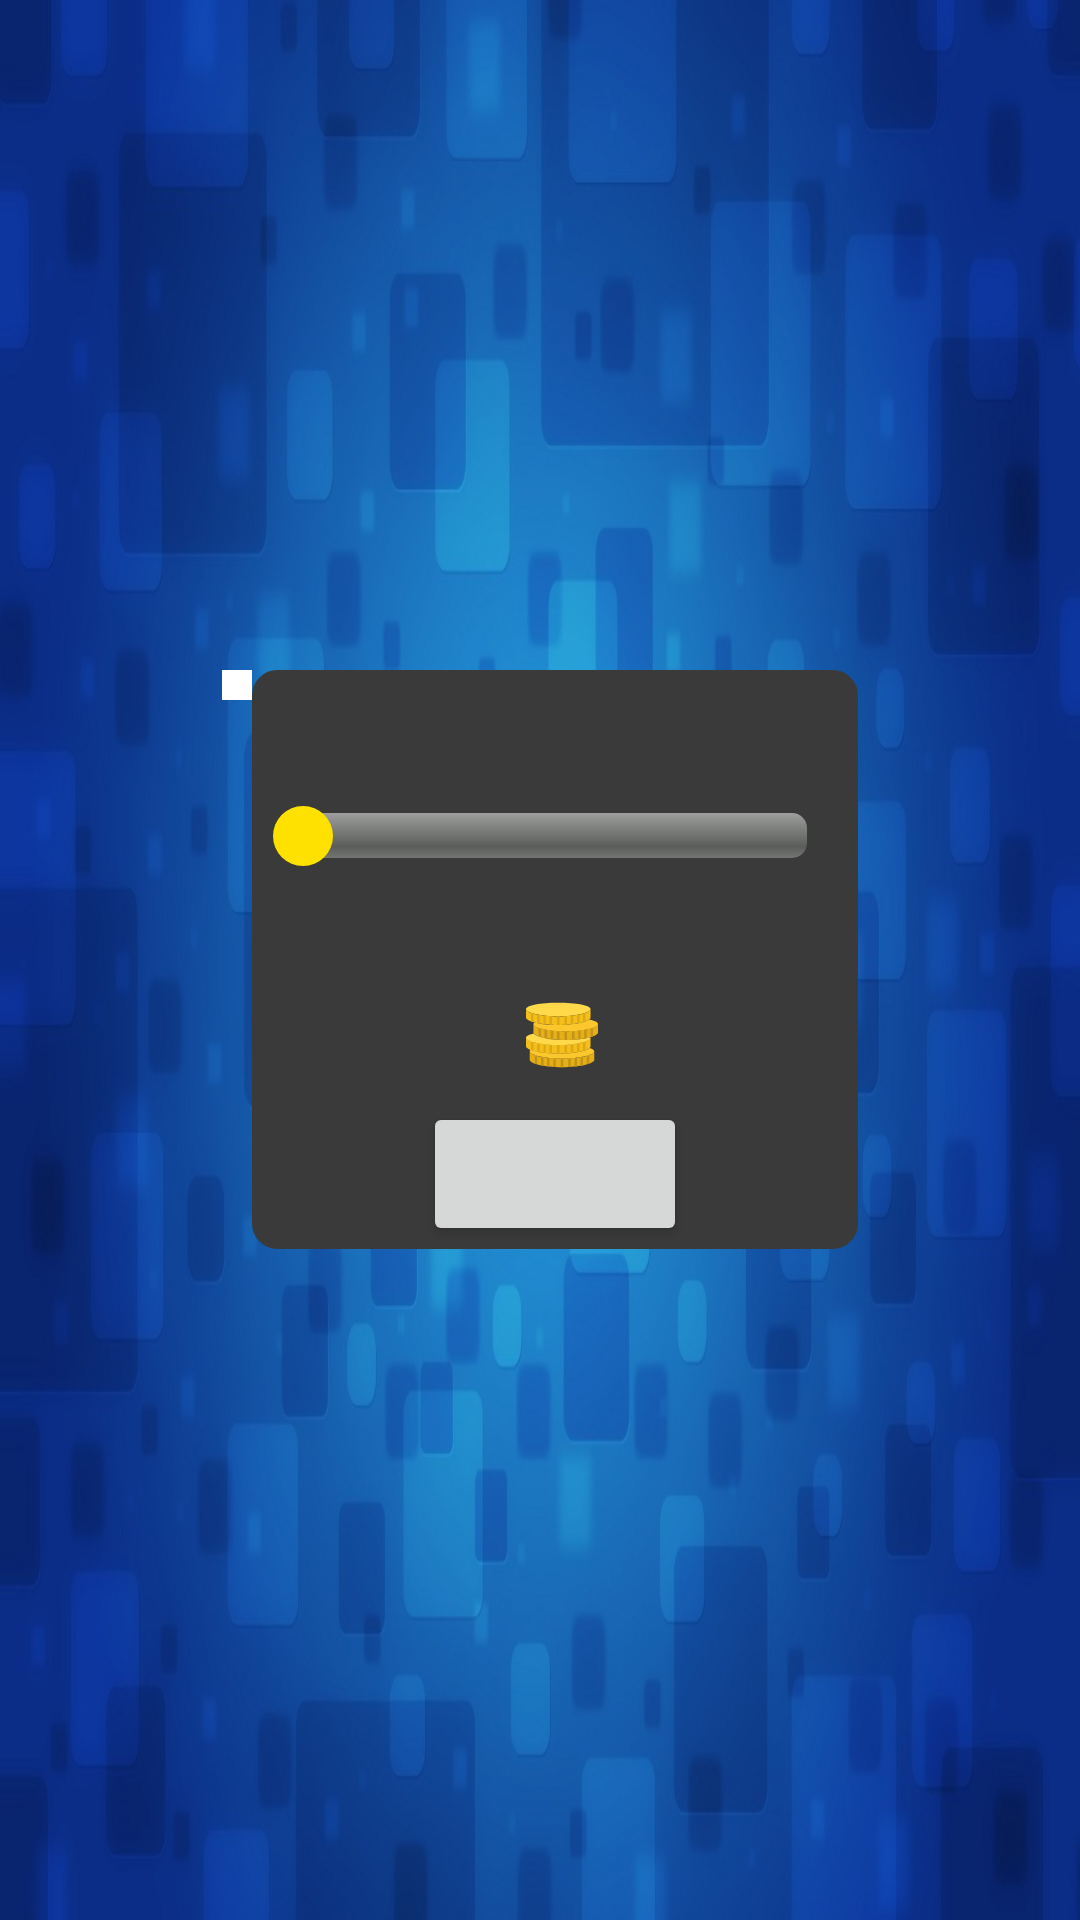

Where icons sit on this 1080px×1920px app screen, as (x1, y1, x2, y2):
coin: (526, 1002, 598, 1068)
